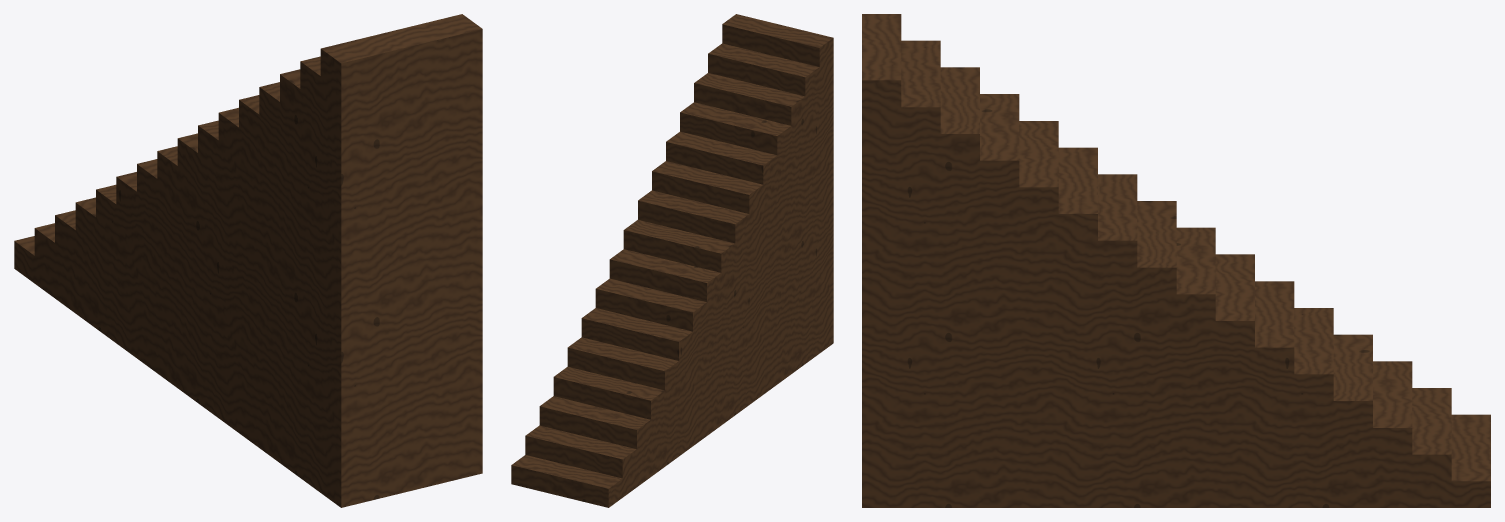
File: stair_straight_3m.glb
3 renders of one model, left to right at view 1: azimuth 30°, elevation 25°; view 2: azimuth 150°, elevation 25°; view 3: azimuth 270°, elevation 25°, orthographic. The views are drawn at different scales.
Visible parts, largest first — view 1: step_01, step_02, step_03, step_04, step_05, step_06, step_07, step_08, step_09, step_10, step_11, step_16 (+4 smaller); view 2: step_01, step_02, step_03, step_04, step_05, step_06, step_07, step_08, step_09, step_10, step_11, step_12 (+4 smaller); view 3: step_01, step_02, step_03, step_04, step_05, step_06, step_07, step_08, step_09, step_10, step_11, step_12 (+4 smaller).
Part boxes in pixels (<box>): step_01: <box>14,236,482,507</box>; step_02: <box>34,223,482,479</box>; step_03: <box>55,210,482,452</box>; step_04: <box>75,197,482,424</box>; step_05: <box>96,184,482,396</box>; step_06: <box>116,172,482,368</box>; step_07: <box>137,159,482,341</box>; step_08: <box>157,146,482,313</box>; step_09: <box>177,133,482,285</box>; step_10: <box>198,120,482,257</box>; step_11: <box>218,107,482,229</box>; step_16: <box>320,14,482,91</box>; step_01: <box>511,324,833,507</box>; step_02: <box>525,305,833,478</box>; step_03: <box>539,286,833,448</box>; step_04: <box>553,267,833,419</box>; step_05: <box>567,248,833,390</box>; step_06: <box>581,229,833,360</box>; step_07: <box>595,210,833,331</box>; step_08: <box>609,191,833,301</box>; step_09: <box>623,171,833,272</box>; step_10: <box>638,152,833,243</box>; step_11: <box>652,133,833,213</box>; step_12: <box>666,114,833,184</box>; step_01: <box>862,414,1490,507</box>; step_02: <box>862,388,1451,481</box>; step_03: <box>862,361,1412,454</box>; step_04: <box>862,334,1372,427</box>; step_05: <box>862,308,1333,400</box>; step_06: <box>862,281,1294,374</box>; step_07: <box>862,254,1254,347</box>; step_08: <box>862,227,1215,320</box>; step_09: <box>862,201,1176,294</box>; step_10: <box>862,174,1137,267</box>; step_11: <box>862,147,1097,240</box>; step_12: <box>862,121,1058,213</box>.
Size of the model in its own units: 1 by 3 by 4.
1 material, 1 textured.
